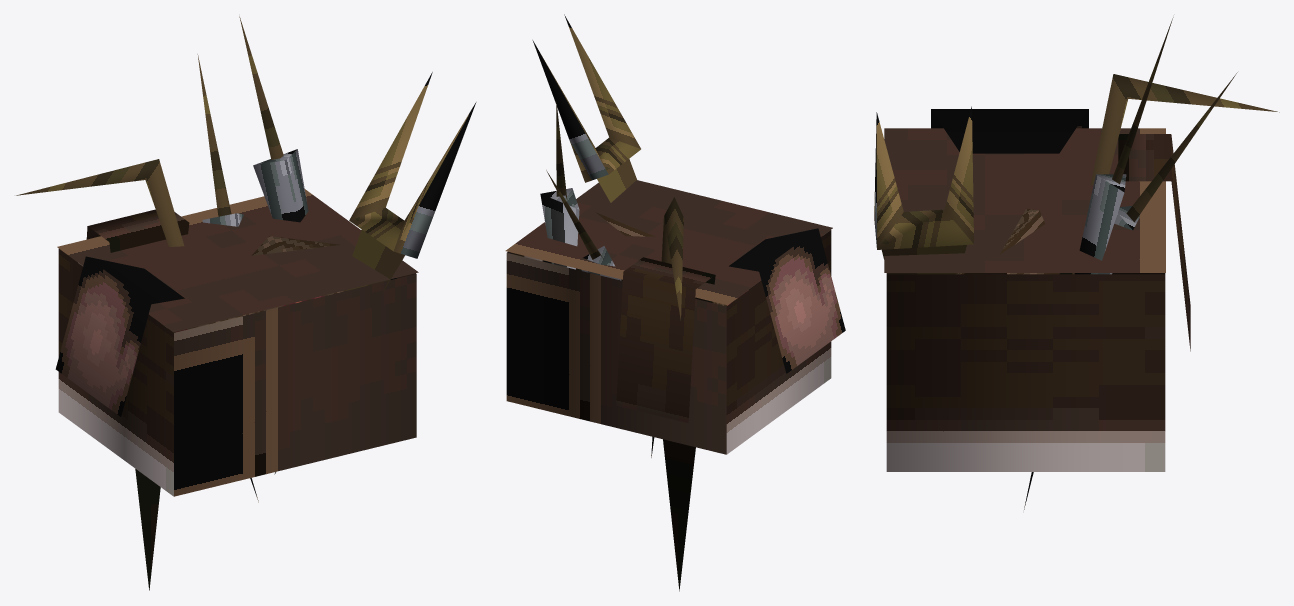
3 views of the same model, side by side, from view 1: azimuth 30°, elevation 25°; view 2: azimuth 150°, elevation 25°; view 3: azimuth 270°, elevation 25° (orthographic). The views are drawn at different scales.
Visible parts, largest first — view 1: 3295IMIG06_09; view 2: 3295IMIG06_09; view 3: 3295IMIG06_09.
Part boxes in pixels (x1,y1,x2,y2): 3295IMIG06_09: [16, 16, 476, 590]; 3295IMIG06_09: [505, 14, 845, 591]; 3295IMIG06_09: [874, 17, 1279, 509].
Bounding box in the file's own units: 0.9688 × 1.48 × 0.8452.
4 materials, 4 textured.
